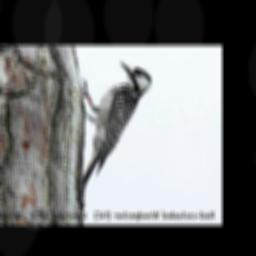Woodpecker: (78, 62, 154, 200)
